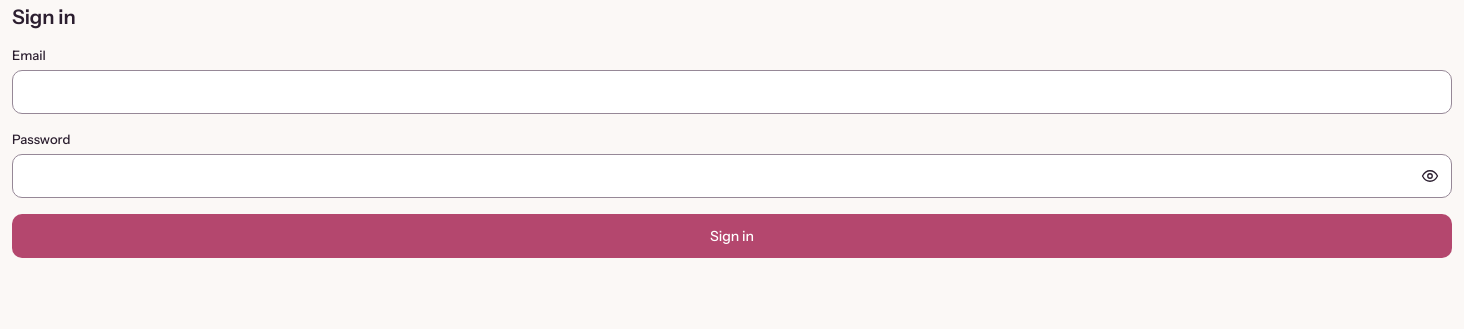
it: error messages › INVALID_EMAIL
Type "ana@example.com" into the field labelled "Email" at [732, 92], box [12,70,1452,114]
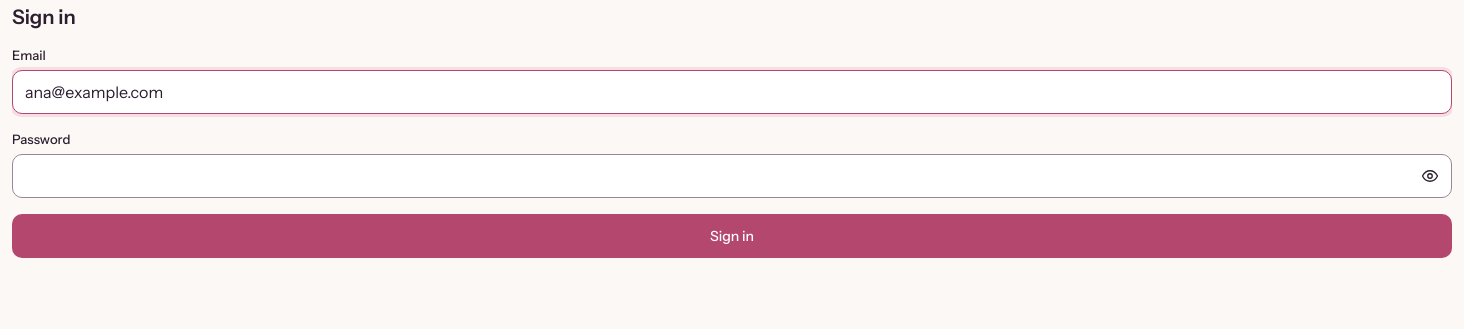
Type "pas-de-deux" into the password field labelled "Password" at [732, 176], box [12,154,1452,198]
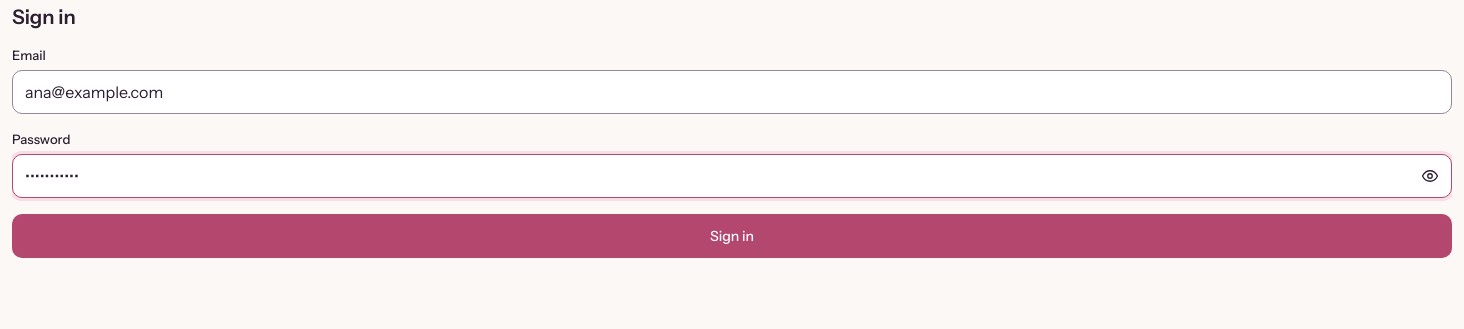
Click the button "Sign in" at [732, 236], box [12,214,1452,258]
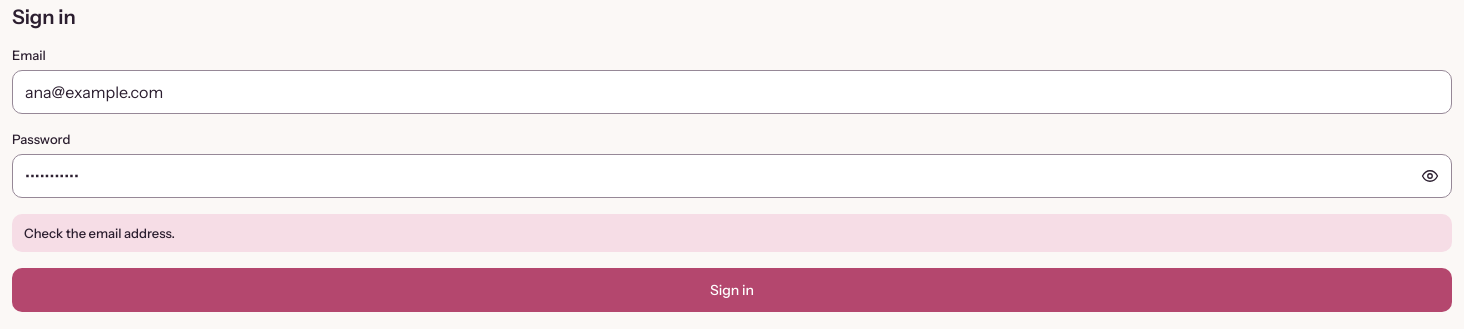
Expected: the message reads "Check the email address.", [24,225,175,241]
